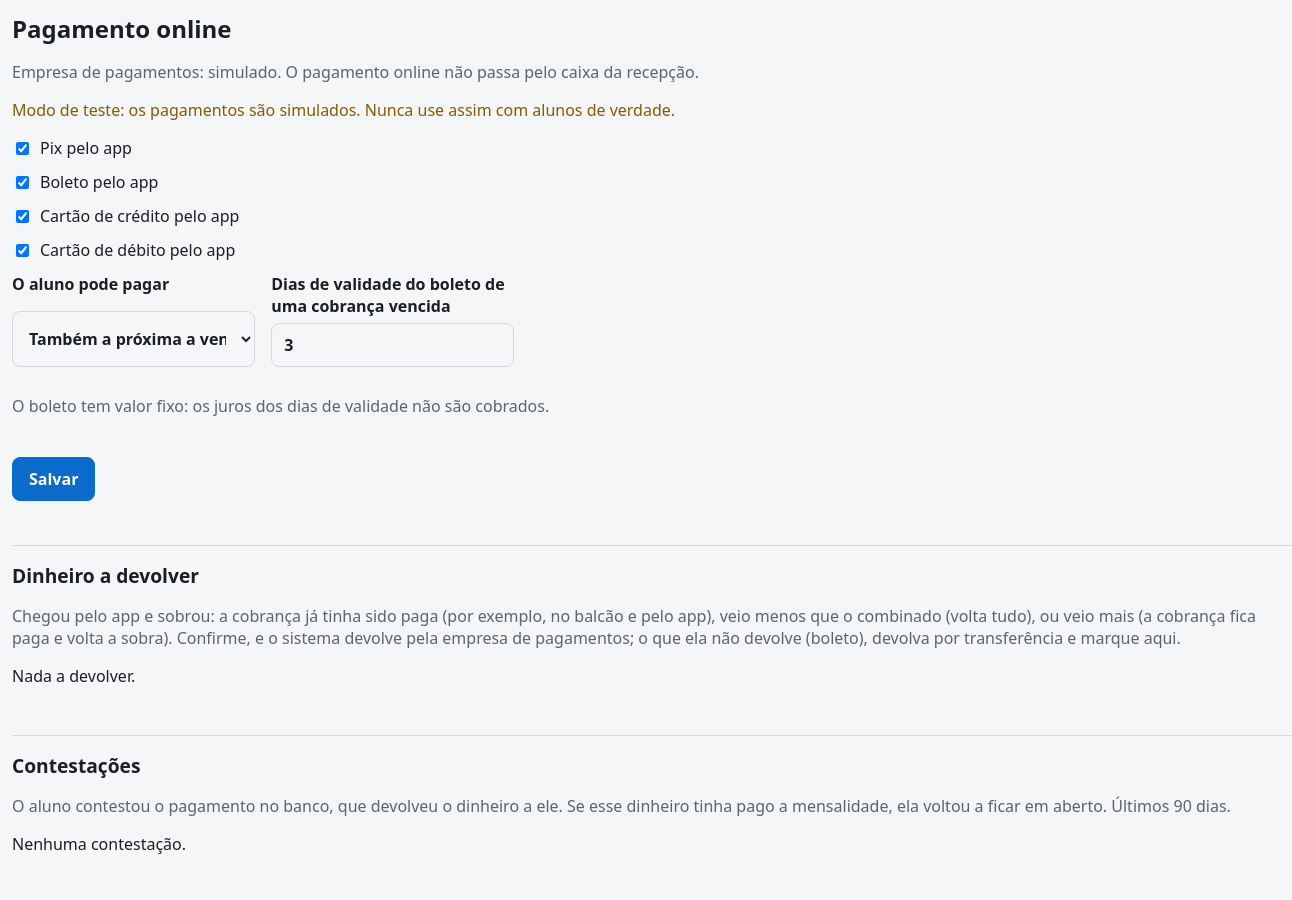
Test case: pagamento online (ADMIN) › mostra a empresa e salva com a versão lida
Expected: the text "Empresa de pagamentos: simulado" is shown, [12,61,699,83]
Expected: the text "Modo de teste" is shown, [12,99,675,121]
Click the checkbox labelled "Boleto pelo app". click: [22, 182]
box: [16,176,29,188]
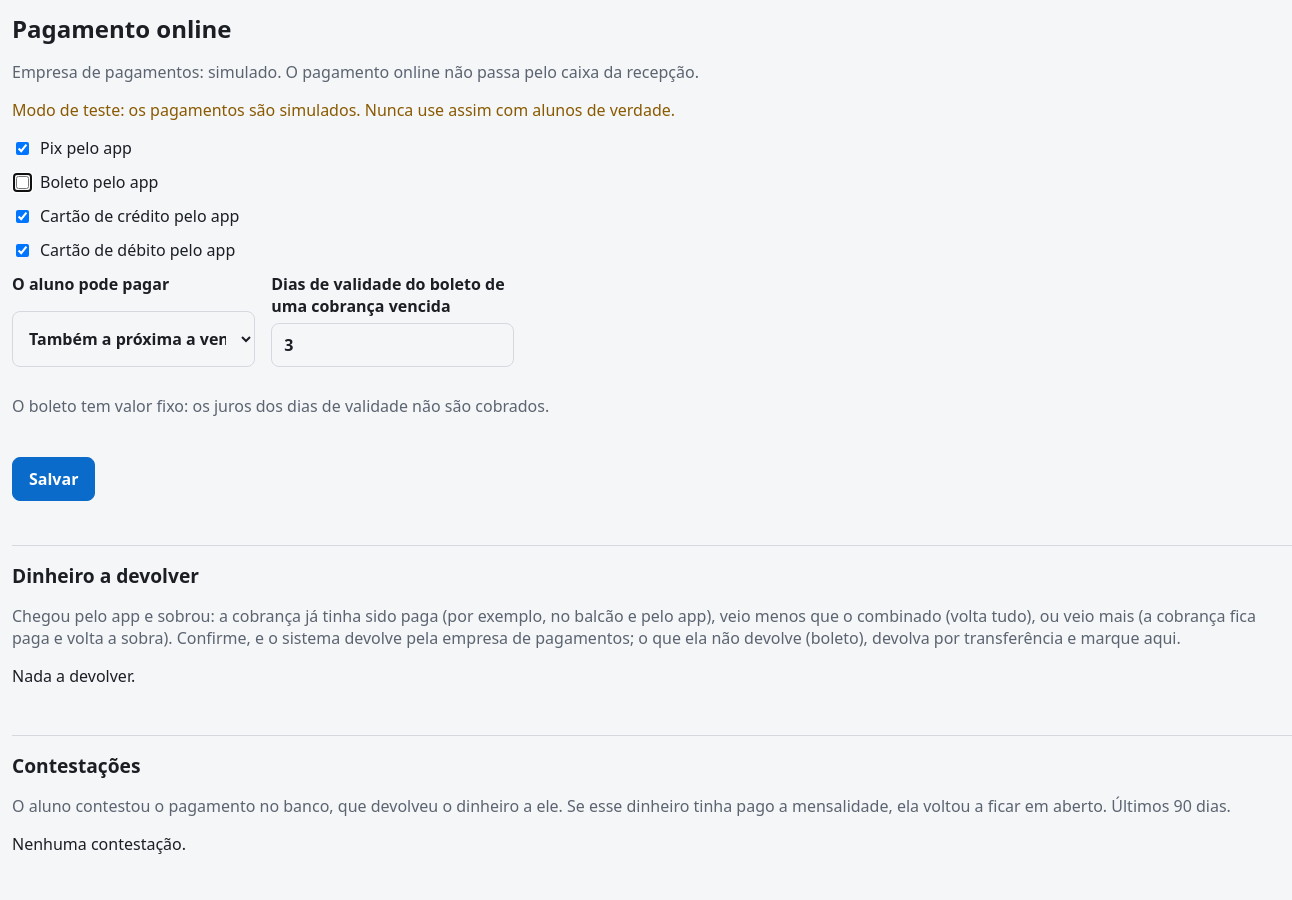
Click the checkbox labelled "Cartão de débito pelo app". click: [22, 250]
box: [16,244,29,256]
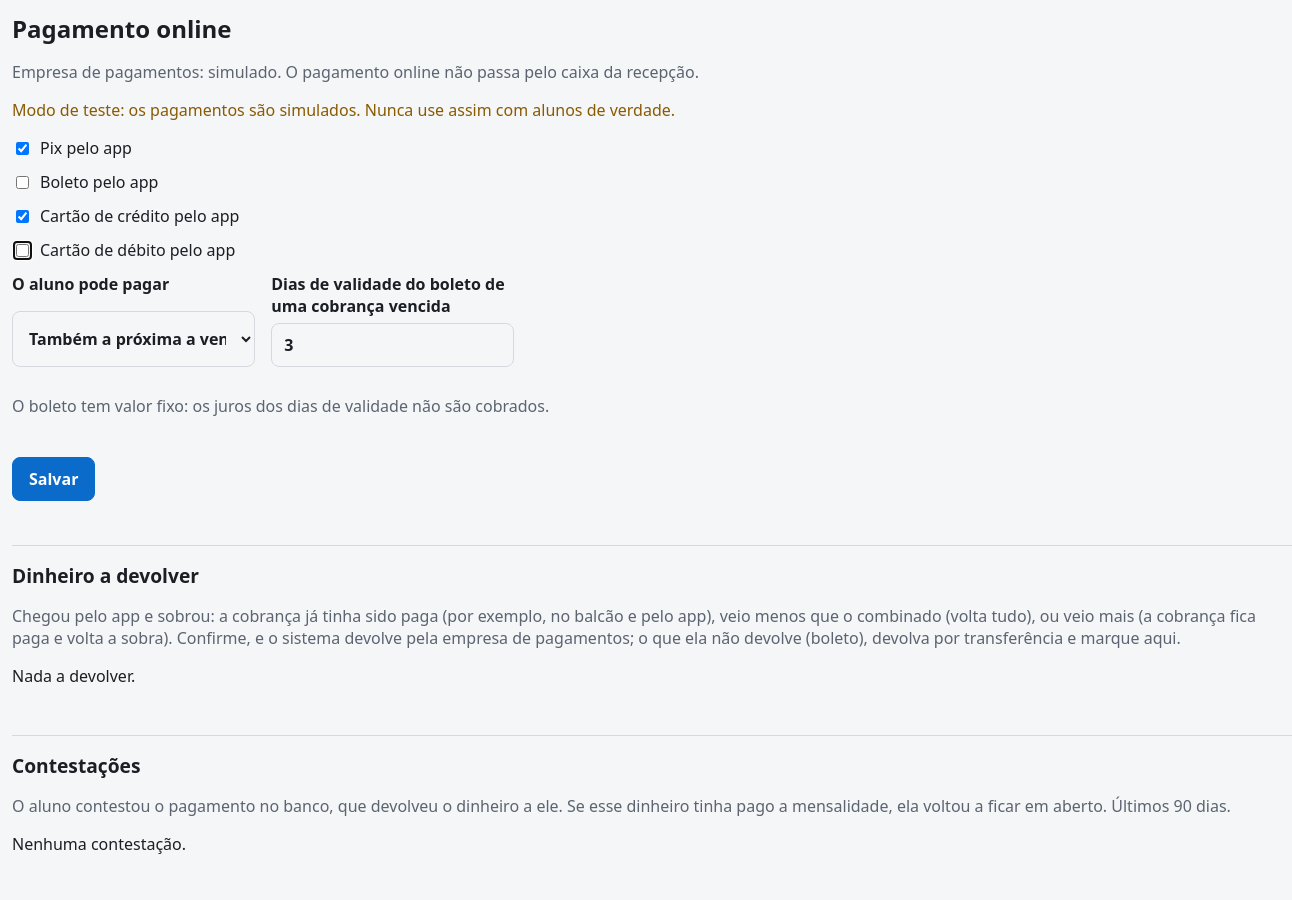
Select "Todas as em aberto" in the dropdown named "Até onde adiantar". click: [134, 339]
box: [12,311,255,367]
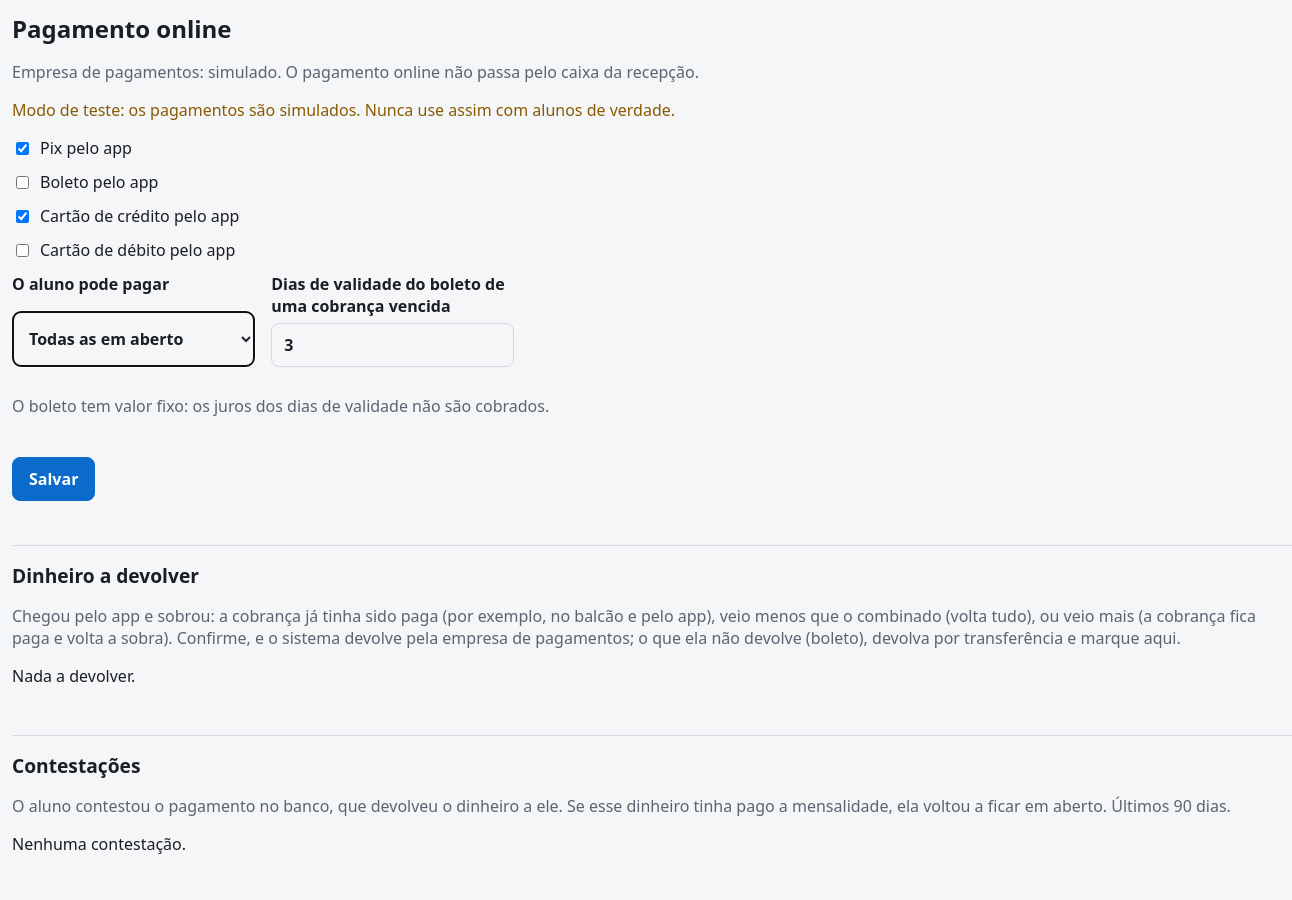
Replace the text in the number field labelled "Dias de validade do boleto de uma cobrança vencida" with "5". click: [393, 345]
box: [271,323,514,367]
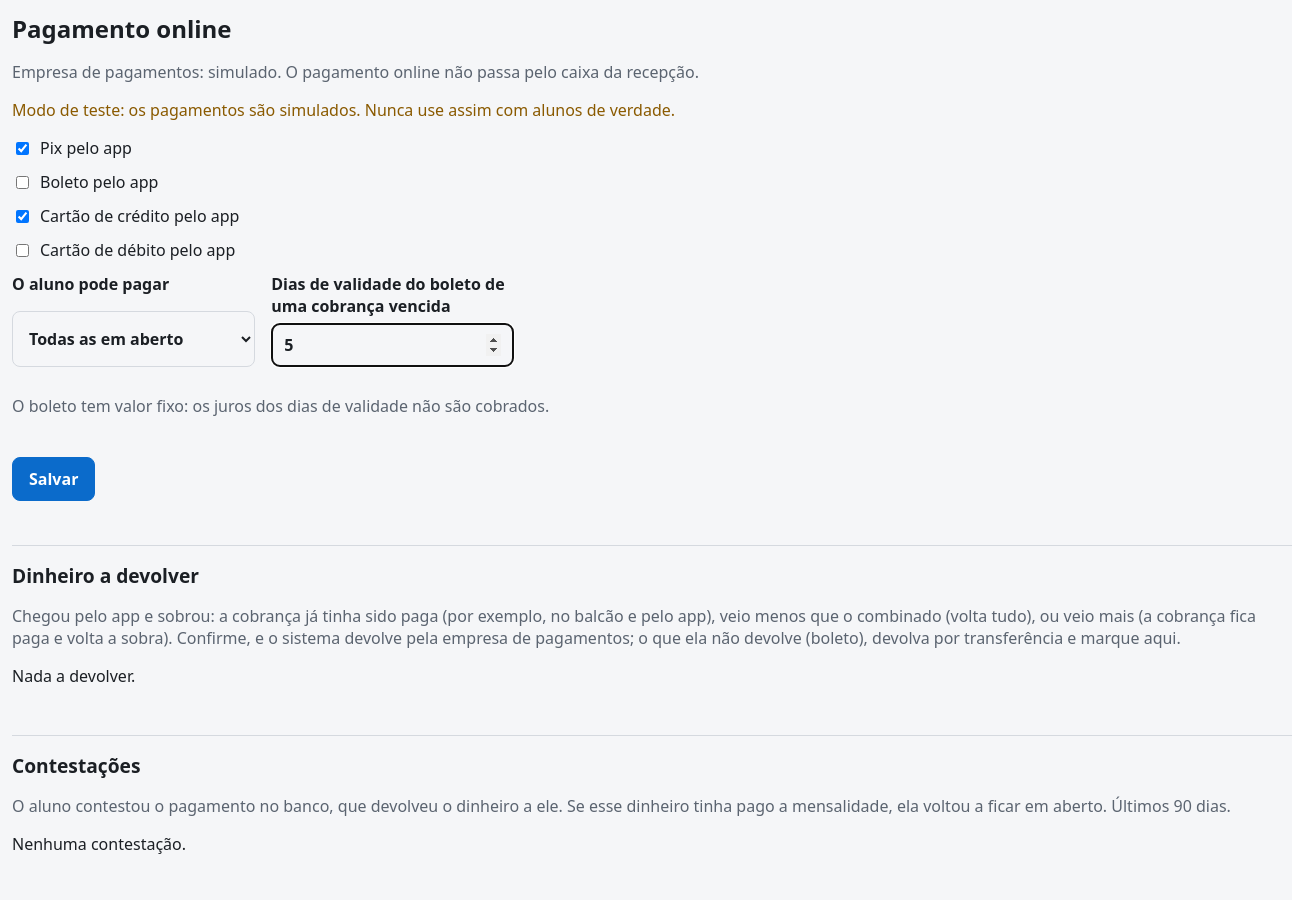
Click the button "Salvar". click: [54, 479]
box: [12,457,95,501]
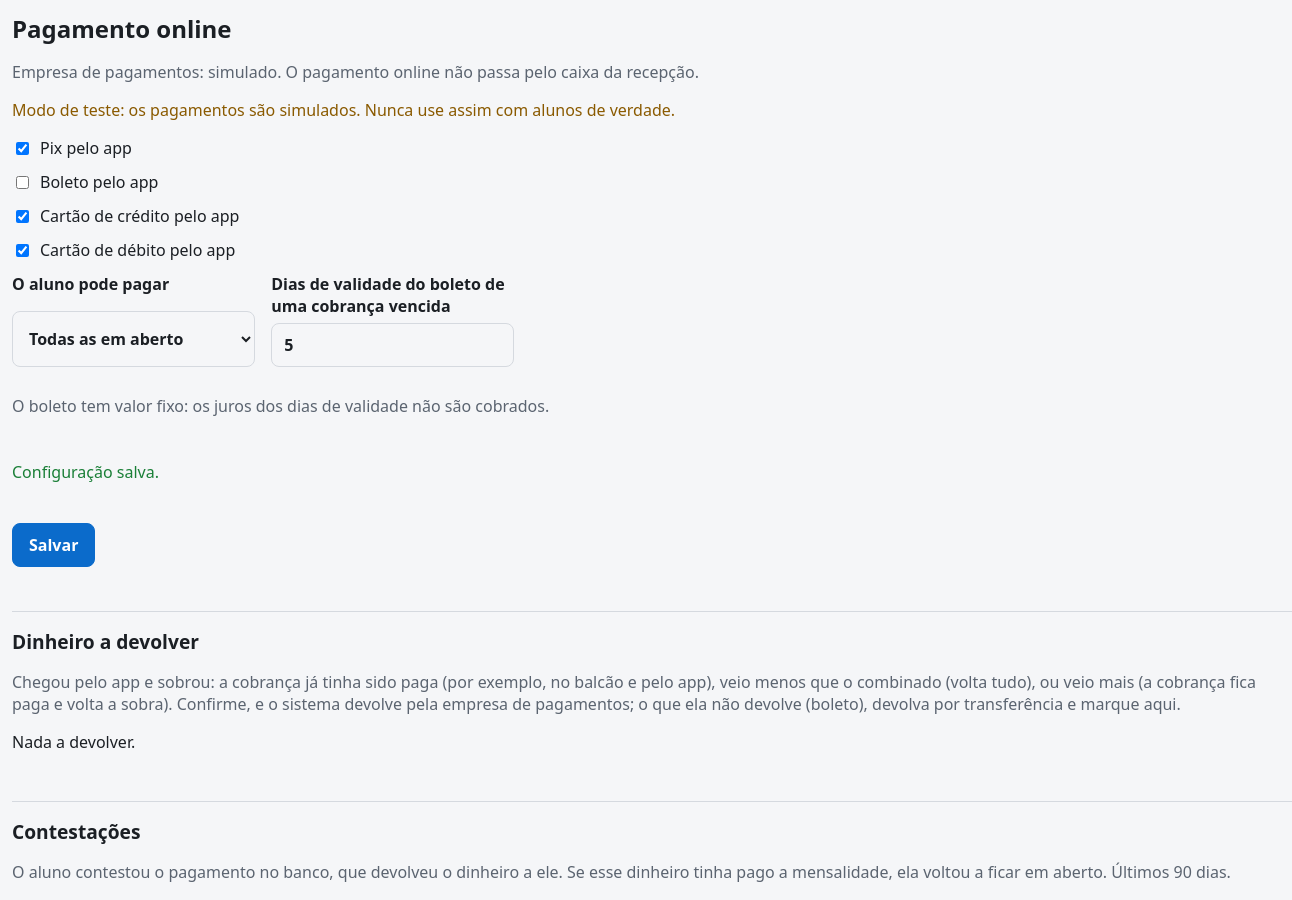
Expected: the text "Configuração salva." is shown, [12,461,159,483]
